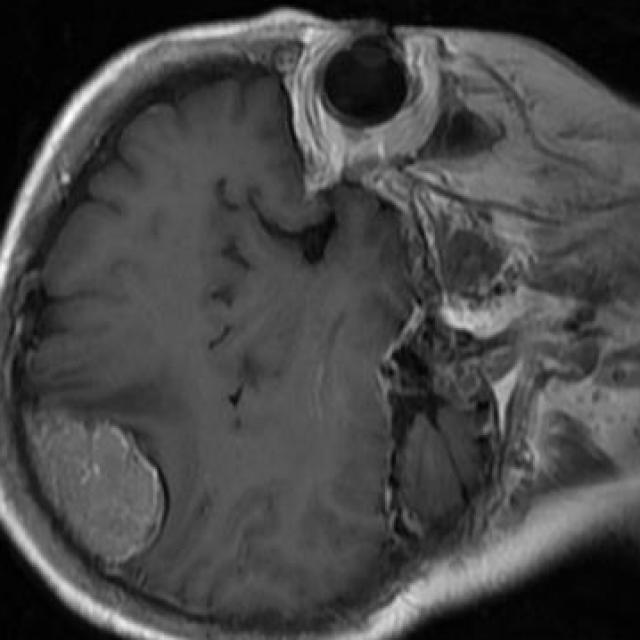meningioma: (30, 412, 159, 563)
